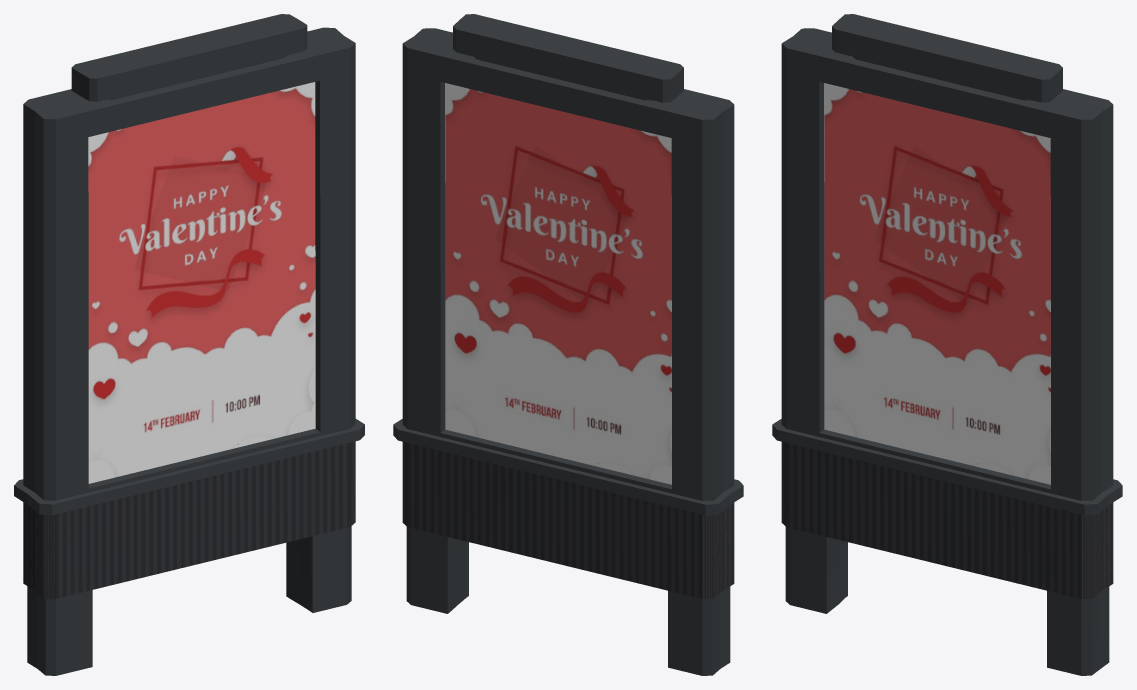
File: RecBillboard.fbx
3 views of the same model, side by side, from view 1: azimuth 30°, elevation 25°; view 2: azimuth 150°, elevation 25°; view 3: azimuth 330°, elevation 25° (orthographic).
Visible parts, largest first — view 1: regBillboard2; view 2: regBillboard2; view 3: regBillboard2.
Boxes of the visible parts, box(x1,y1,x2,y2) form: regBillboard2: box(14, 14, 364, 675); regBillboard2: box(393, 14, 743, 675); regBillboard2: box(772, 14, 1122, 675).
Bounding box in the file's own units: 172 × 296 × 30.51.
1 material, 1 textured.
